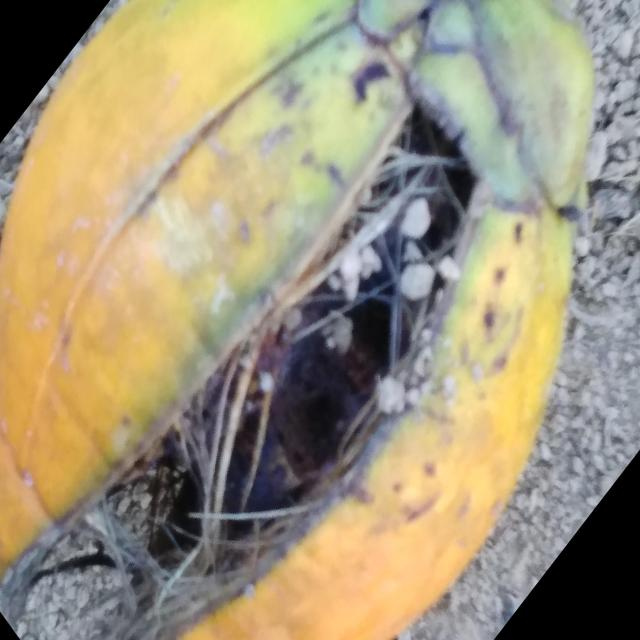damaged: (0, 0, 594, 640)
